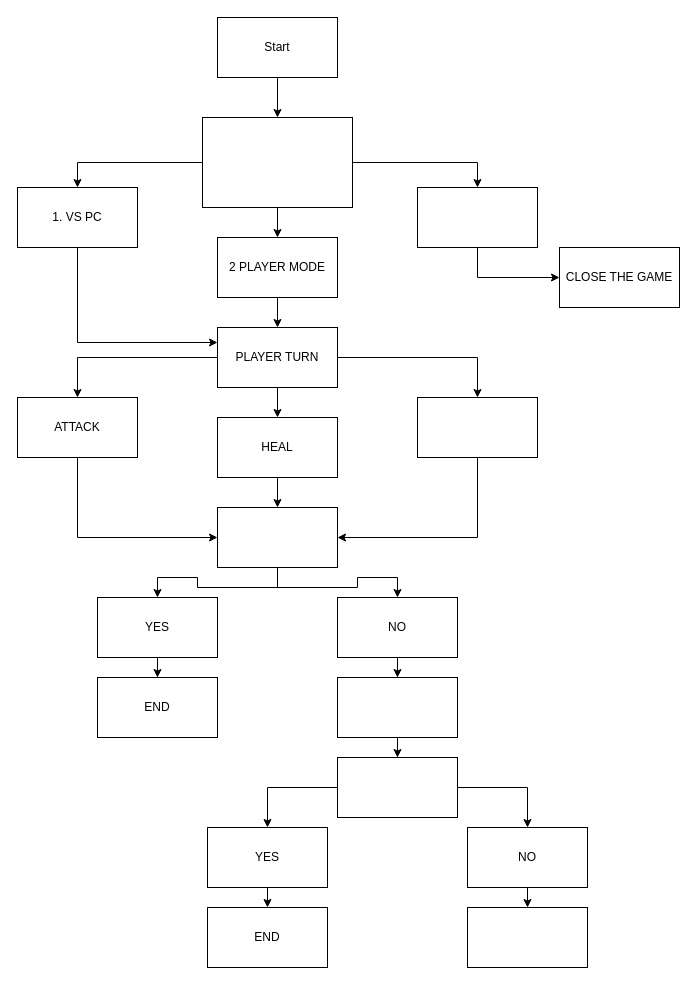
This 697x985 diagram has some shape labels left out. The shapes that lost their labels are listed below. From the top down, each one's centre as x and y in pixels, then its label:
(x=277, y=162): MAIN MENU "FIGHTING.IO"
(x=477, y=217): EXIT
(x=477, y=427): SPECIAL SKILL
(x=277, y=537): WIN
(x=397, y=707): ENEMY TURN
(x=397, y=787): ¿WIN?'
(x=527, y=937): (REPEAT)
